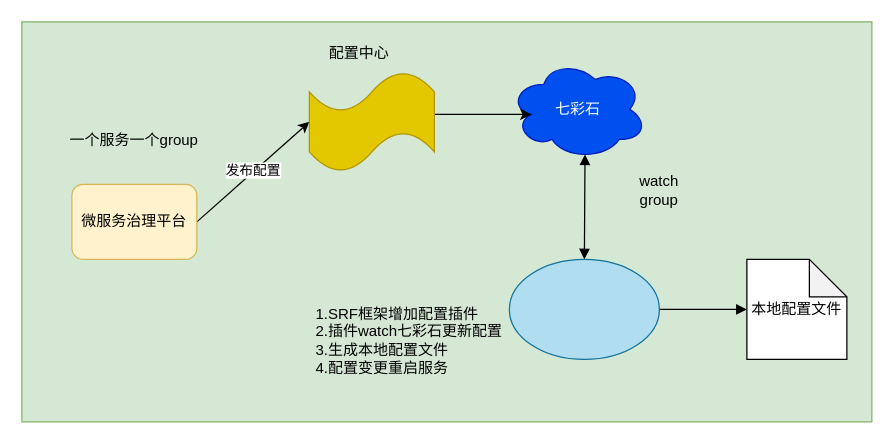
Image size: 894x444. Some labels were removed from this diagram. The centre of each missing label's shape, as x and y in pixels:
微服务: point 583,308
防腐层: point 371,121
